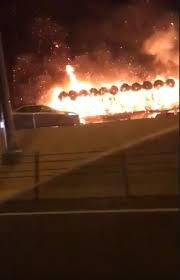fire: (45, 57, 177, 120)
